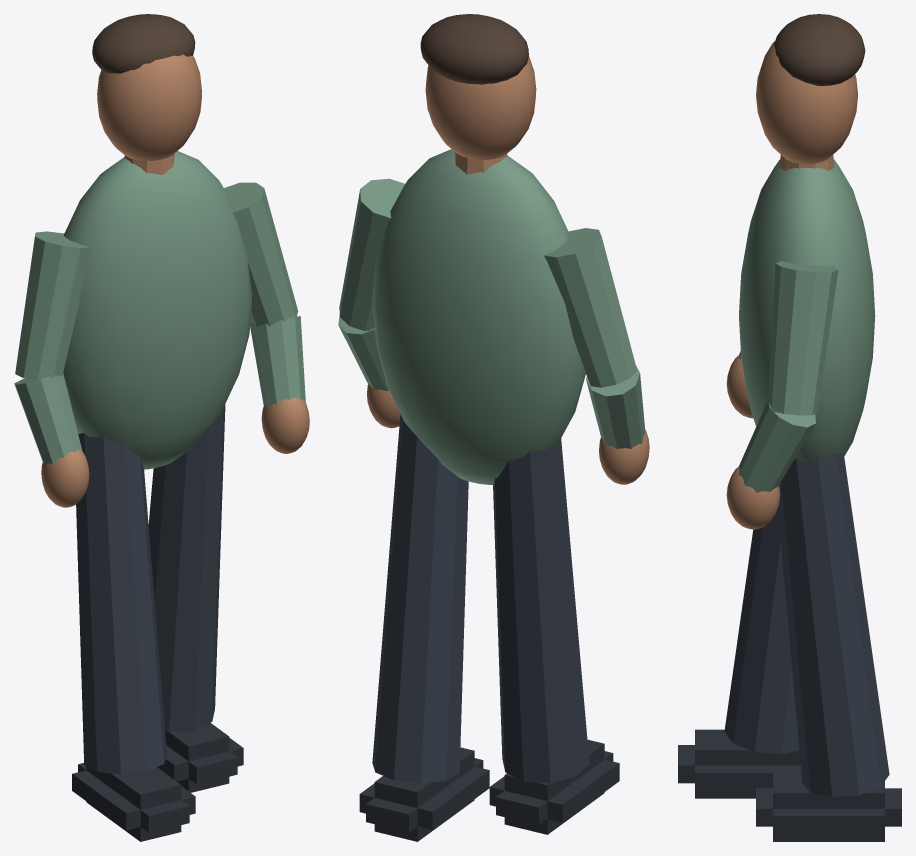
File: walker.glb
The picture shows the model from 3 angles, left to right: view 1: azimuth 30°, elevation 25°; view 2: azimuth 150°, elevation 25°; view 3: azimuth 270°, elevation 25°; orthographic projection. The views are drawn at different scales.
Parts seen in each view (by area): view 1: walker; view 2: walker; view 3: walker.
Part boxes in pixels (box(x1,y1,x2,y2)): walker: box(14, 14, 309, 841); walker: box(338, 14, 649, 841); walker: box(678, 14, 901, 841).
Bounding box in the file's own units: 0.689 × 1.79 × 0.46.
